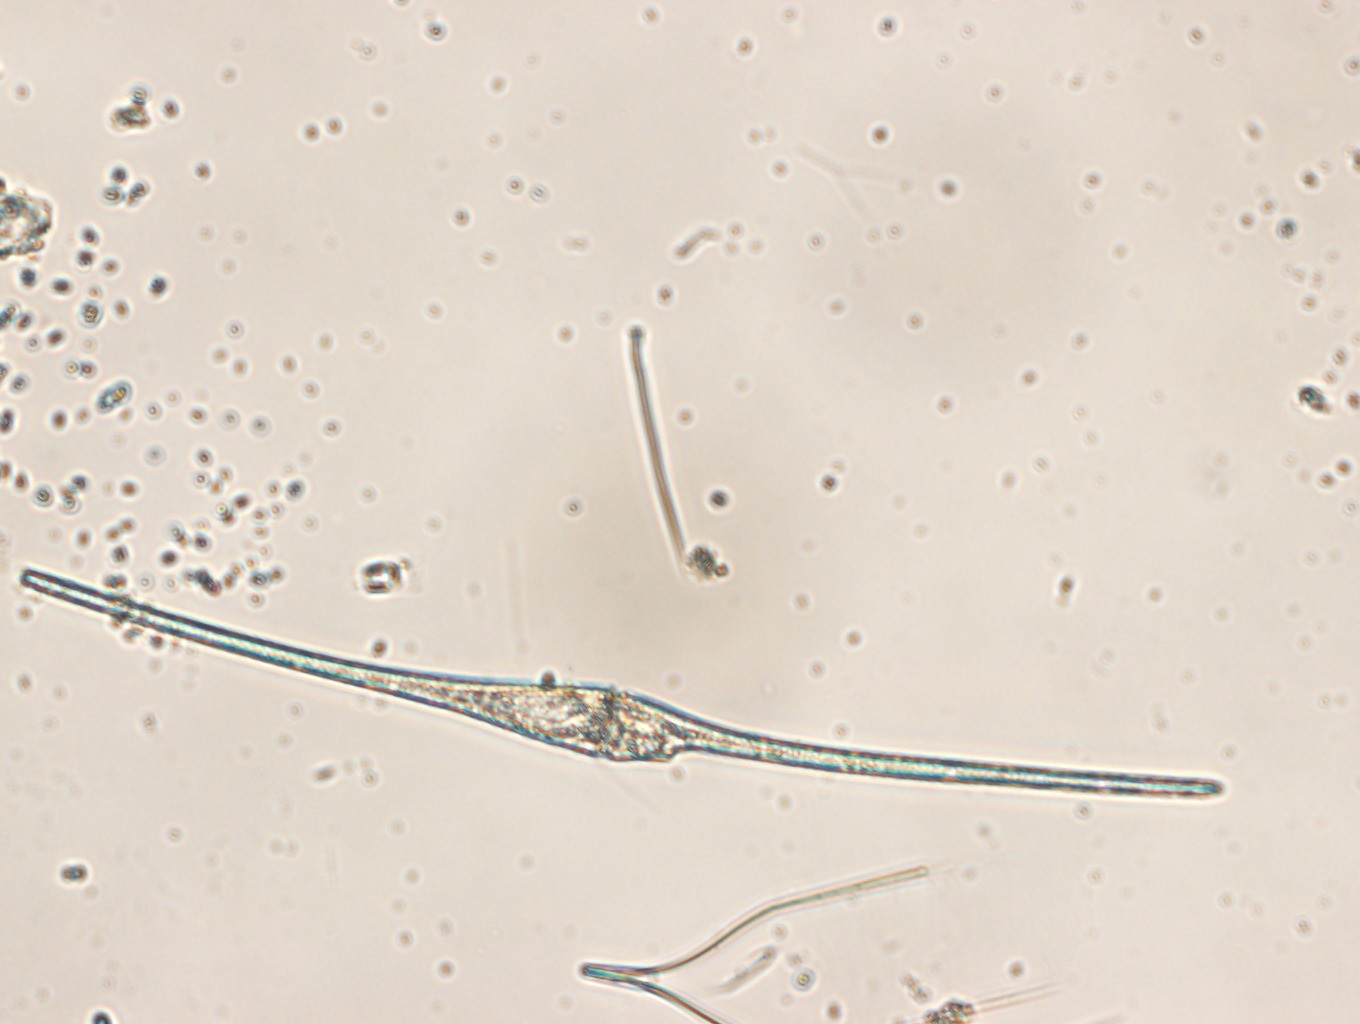ceratium fusus: (20, 566, 1223, 797)
rhizosolenia: (576, 865, 935, 1024)
